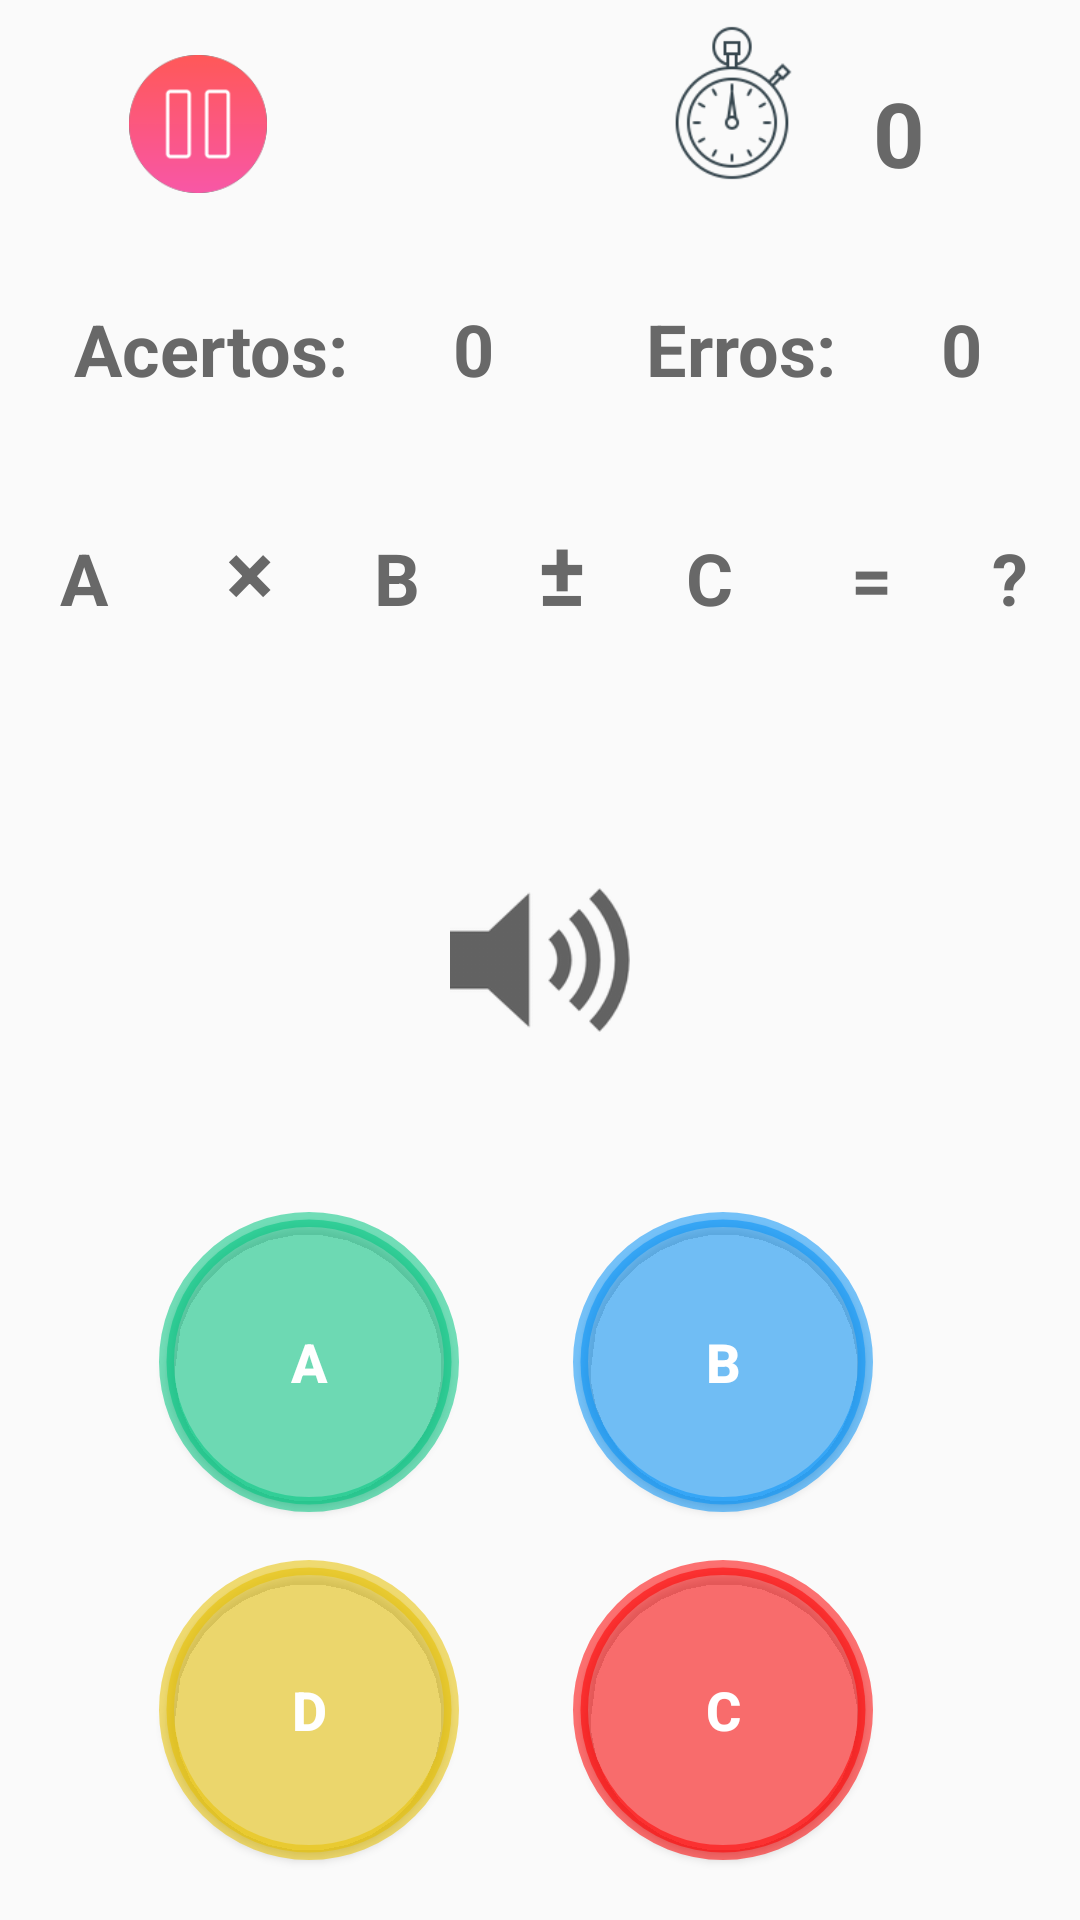

Where icons sit on this 1080x1920 app screen, as (x1, y1, x2, y2):
audio: (450, 888, 630, 1032)
pause: (129, 55, 267, 193)
timer: (675, 27, 791, 179)
